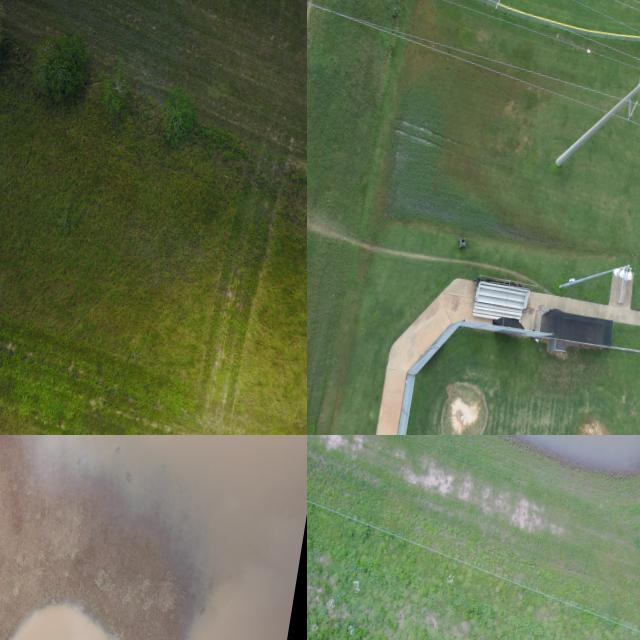fire: (33, 435, 307, 640)
